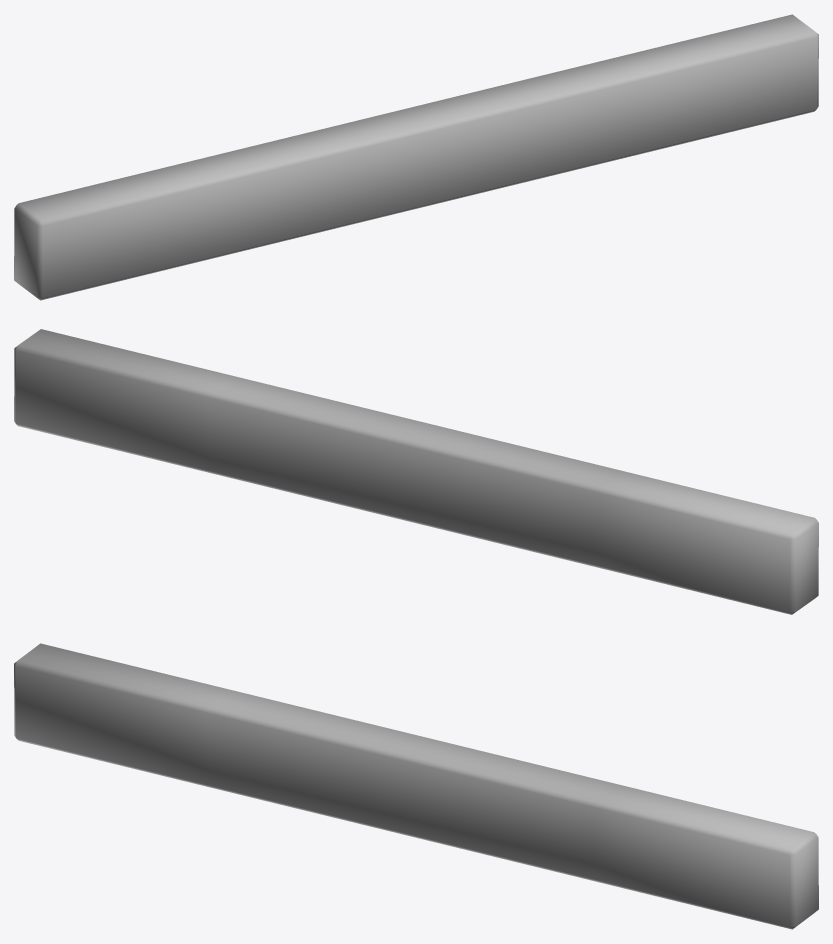
Rendered from bumper2.fbx.
3 renders of one model, top to bottom at view 1: azimuth 30°, elevation 25°; view 2: azimuth 150°, elevation 25°; view 3: azimuth 330°, elevation 25°, orthographic.
Visible parts, largest first — view 1: BumperRotatingModule; view 2: BumperRotatingModule; view 3: BumperRotatingModule.
Part boxes in pixels (x1,y1,x2,y2): BumperRotatingModule: (14, 14, 818, 300); BumperRotatingModule: (14, 329, 818, 614); BumperRotatingModule: (14, 643, 818, 929).
Size of the model in its own units: 1.91 by 0.1899 by 0.1171.
Materials: 1 (1 with a texture image).
